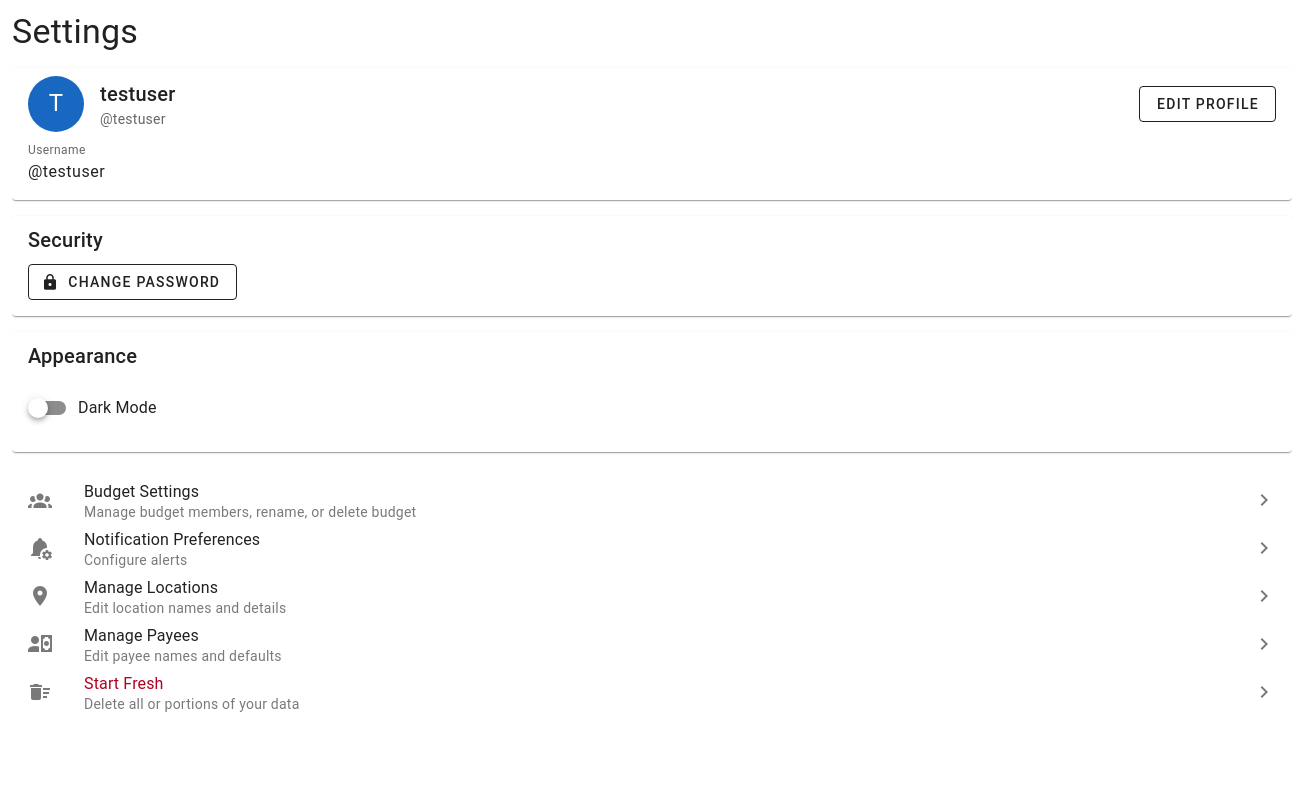
SettingsView › can start editing profile
This screenshot has width=1292, height=812.
What coordinates should you click on to do the following:
click the button "Edit Profile"
I would click on:
 (1207, 104)
Its box is [1139,86,1276,122].
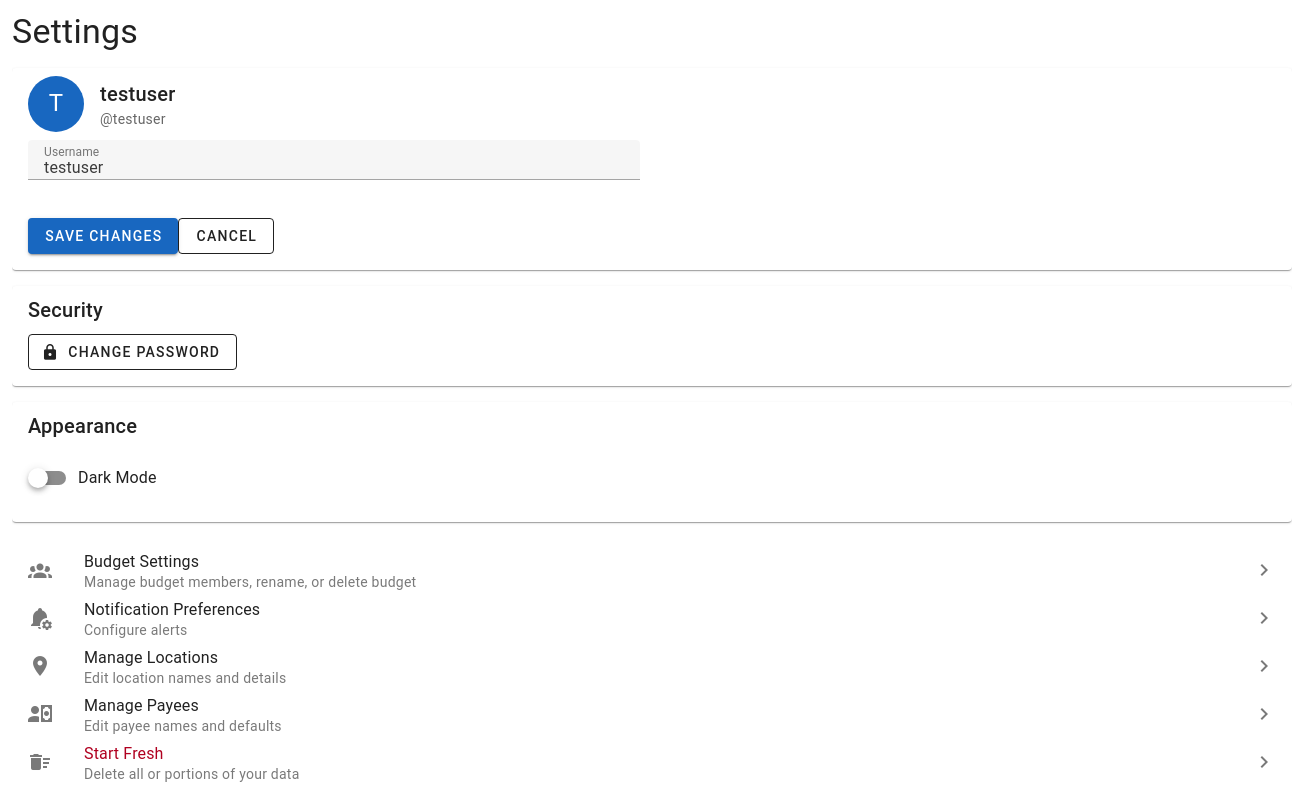
Check: the element showing "Username" is shown, box [28,140,640,202]
Check: the text "Save Changes" is shown, box [44,228,162,244]
Check: the text "Cancel" is shown, box [195,228,257,244]
